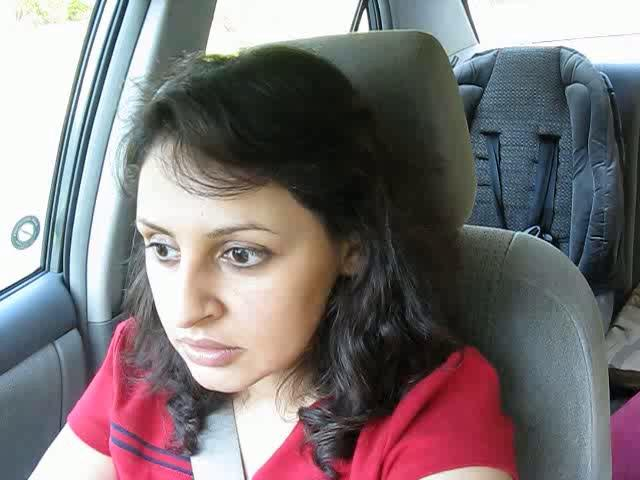no_yawn: (162, 327, 256, 373)
open_eyeL: (136, 228, 185, 268)
open_eyeR: (206, 230, 282, 279)
